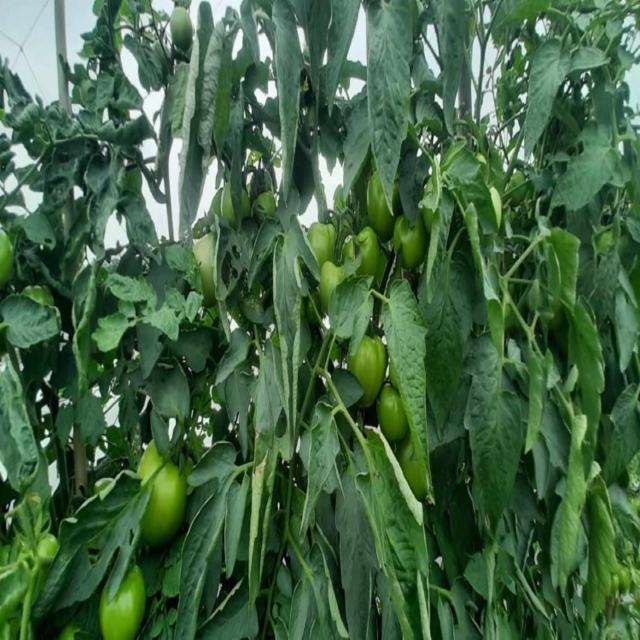tomato: (96, 573, 149, 640), (148, 469, 189, 541), (349, 334, 390, 403), (306, 209, 343, 257), (397, 220, 428, 269), (382, 388, 407, 441), (194, 233, 219, 286), (168, 6, 195, 55), (365, 177, 389, 232), (351, 228, 377, 273), (404, 445, 428, 492), (320, 258, 345, 297), (1, 228, 17, 284), (34, 539, 62, 563), (614, 572, 636, 592), (256, 188, 275, 207)
